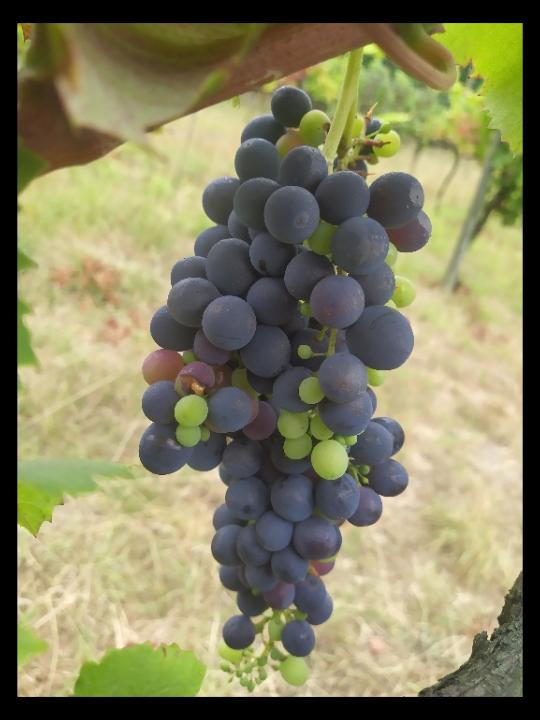grape: (138, 84, 433, 695)
